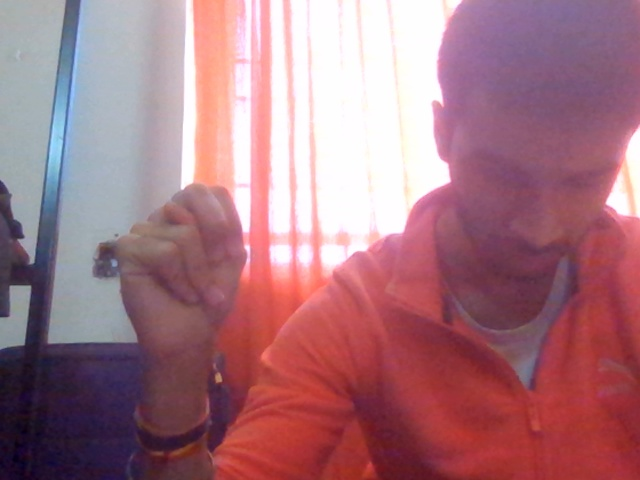N: (88, 168, 285, 436)
